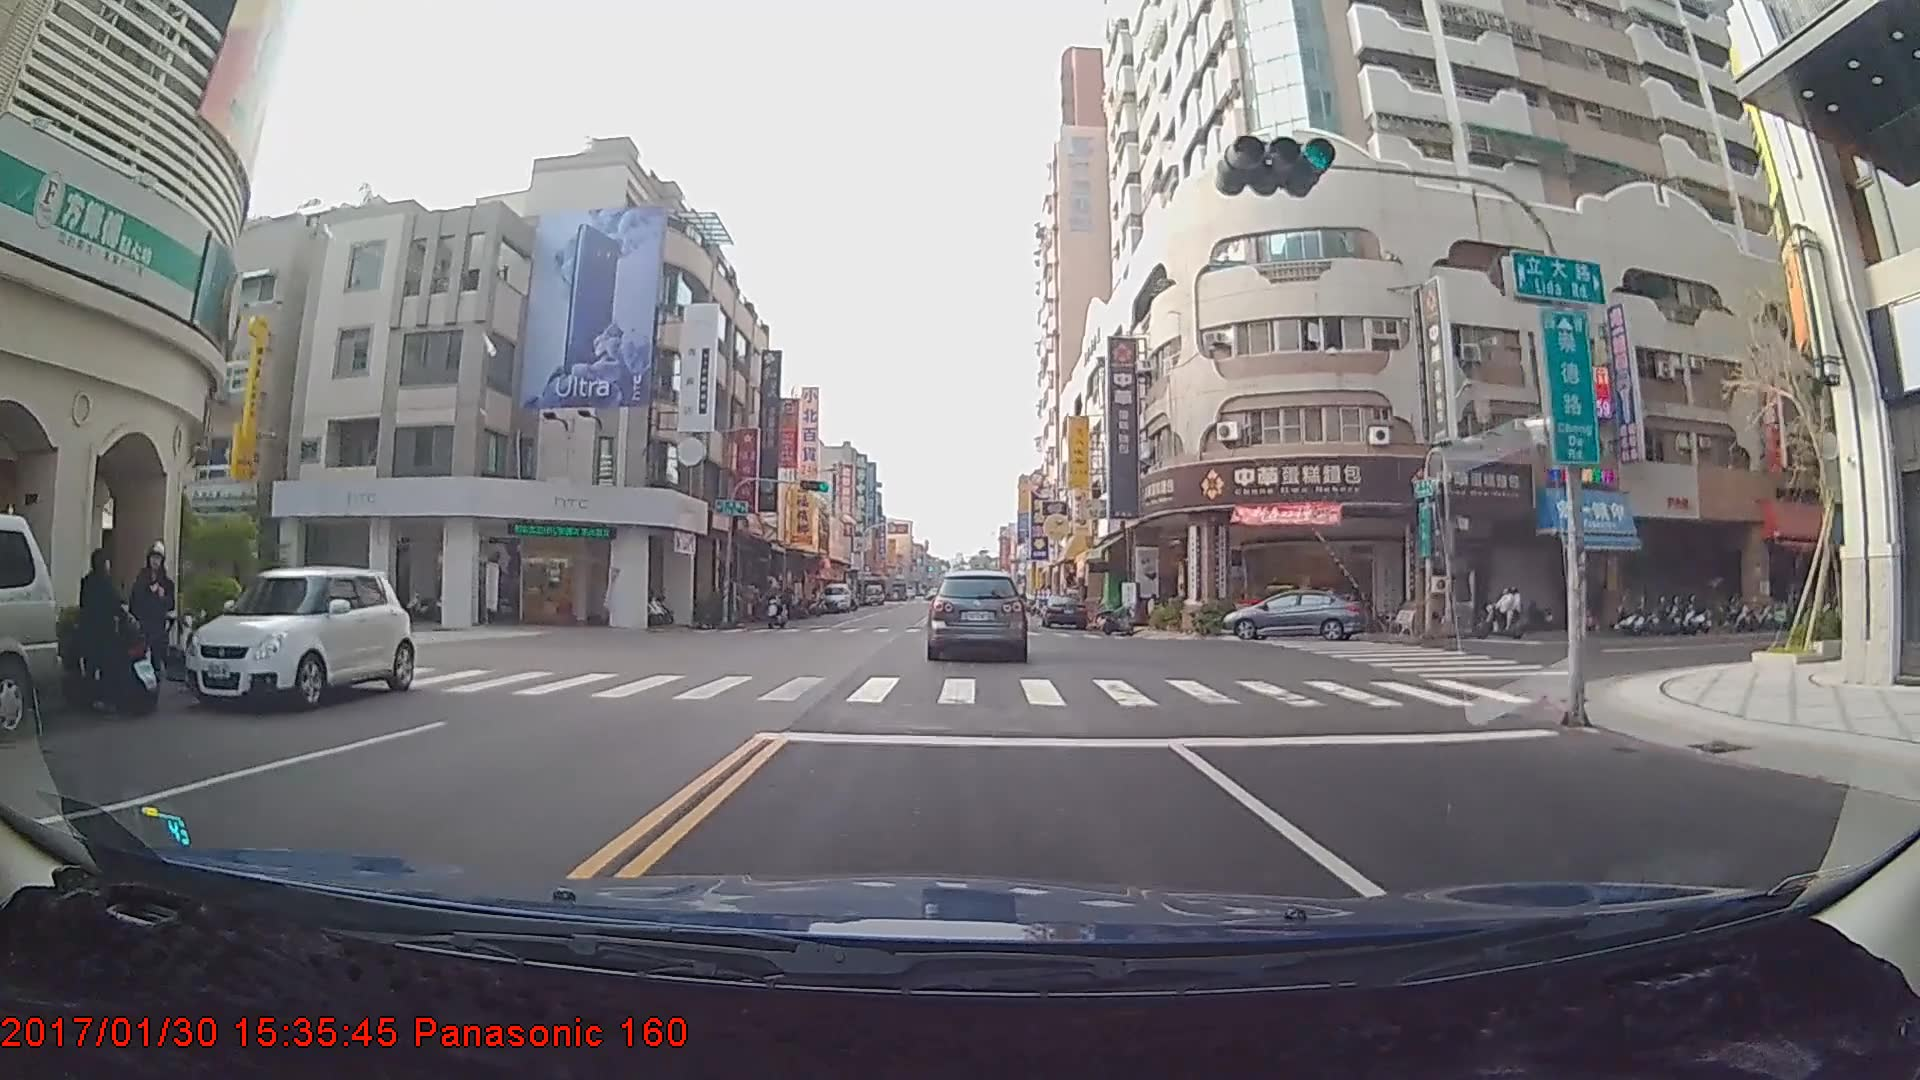pedestrian: (124, 533, 178, 705)
rider: (1472, 586, 1531, 638), (759, 581, 792, 632)
vehicle: (190, 568, 416, 707), (1222, 584, 1368, 644), (928, 572, 1027, 659), (1042, 593, 1088, 629), (819, 582, 851, 613)
